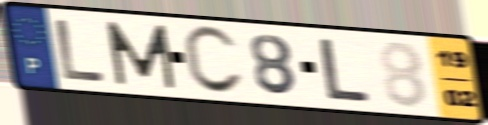8: (379, 39, 431, 111), (249, 32, 301, 97)
C: (180, 24, 247, 98)
L: (316, 36, 373, 105), (52, 17, 109, 84)
M: (103, 19, 179, 91)
